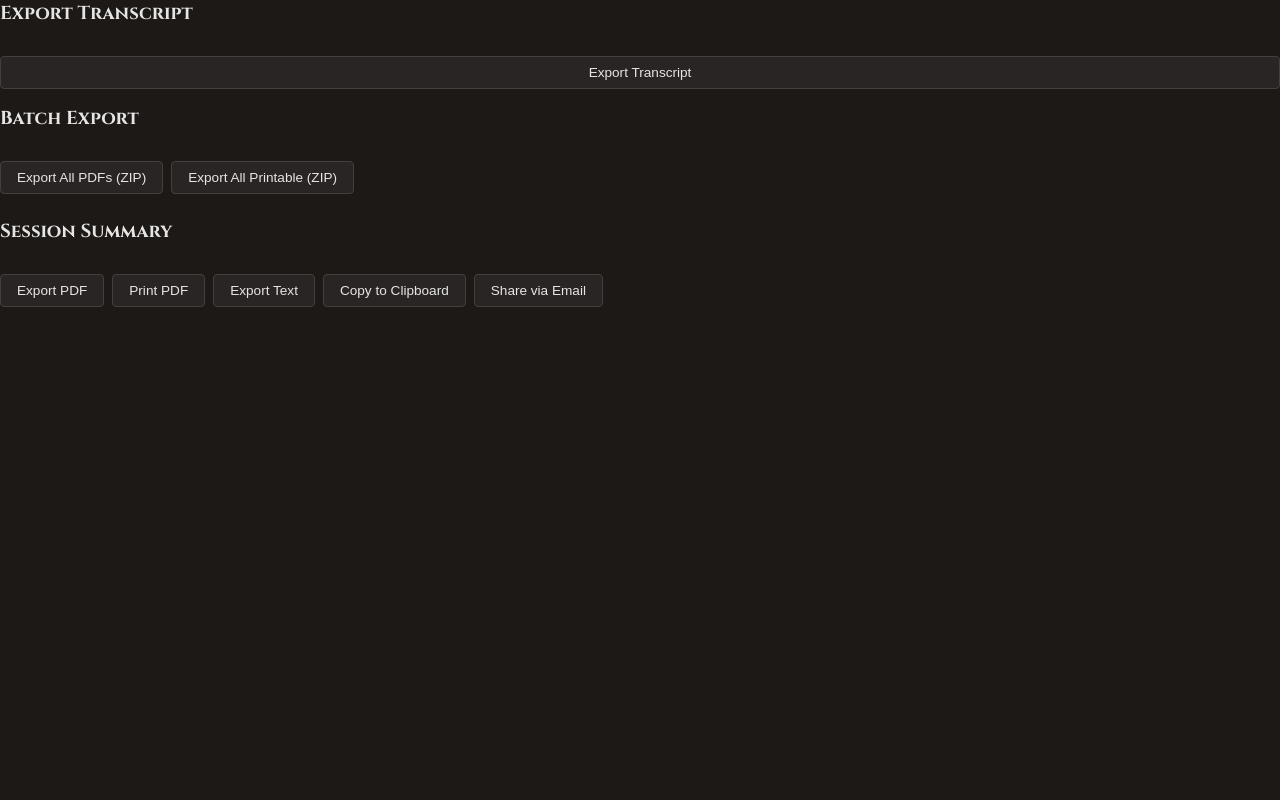
Scenario: ExportSection › shows Close button in email dialog
Click the button "Share via Email" at [538, 291], box x1=474 y1=274 x2=603 y2=307
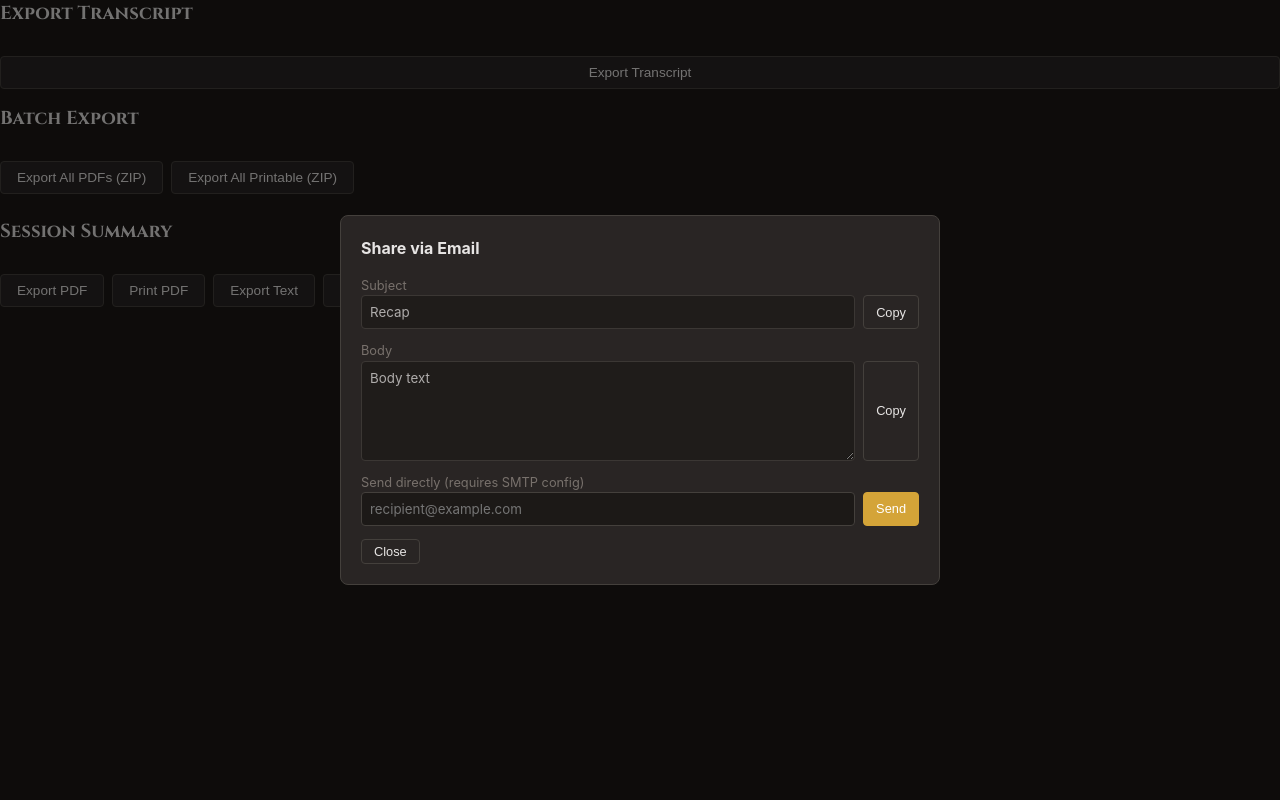
Expected: the button "Close" is shown, x1=361 y1=539 x2=420 y2=564
